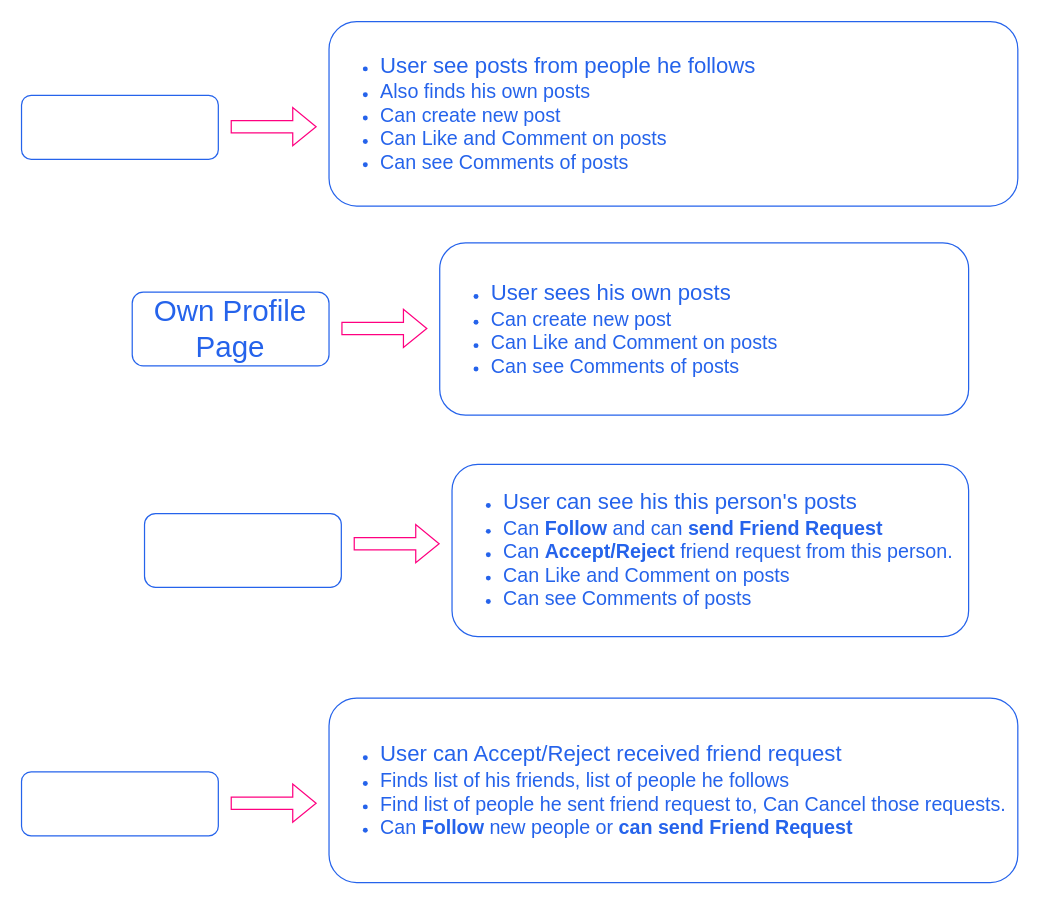
The diagram is 1039 pixels wide and 904 high, and some of its shapes have lost their labels. The box of each missing label's shape, as (x1, y1, x2, y2) in pixels:
Home Page: (20, 94, 218, 159)
Other Profile Page: (143, 512, 341, 587)
People Page: (20, 771, 218, 836)
